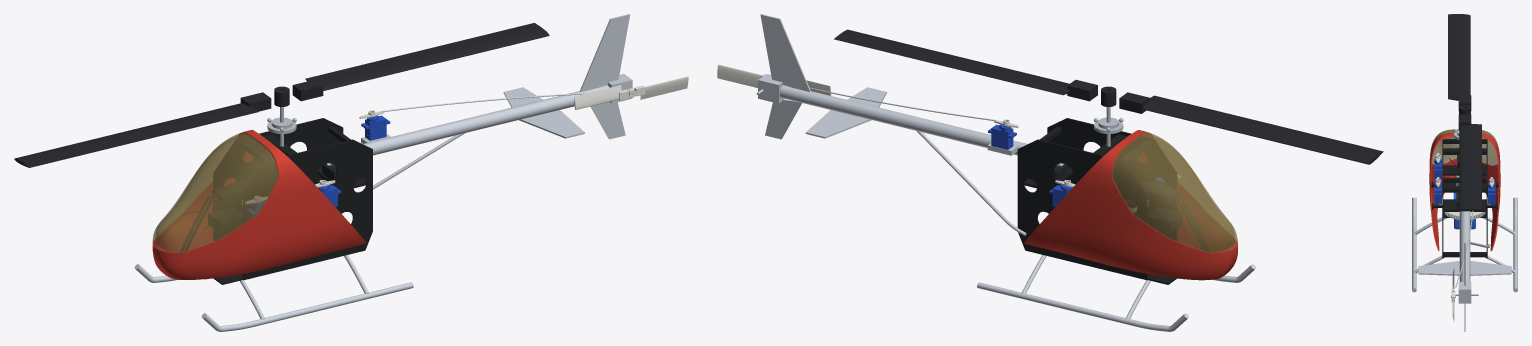
File: helicoptero.glb
3 renders of one model, left to right at view 1: azimuth 30°, elevation 25°; view 2: azimuth 150°, elevation 25°; view 3: azimuth 270°, elevation 25°, orthographic. The views are drawn at different scales.
Parts seen in each view (by area): view 1: p026, p000, p027, p016, p012, p014, p017, p033, p018, p024, p057, p022 (+3 smaller); view 2: p026, p000, p027, p016, p014, p012, p017, p030, p018, p057, p022, p020 (+3 smaller); view 3: p016, p014, p012, p000, p026, p027, p030, p033, p010, p013, p063, p065 (+9 smaller).
Part boxes in pixels (<box>): p026: <box>152,130,366,279</box>; p000: <box>213,118,372,284</box>; p027: <box>152,132,278,252</box>; p016: <box>326,74,633,166</box>; p012: <box>305,23,549,90</box>; p014: <box>14,92,271,167</box>; p017: <box>579,14,629,91</box>; p033: <box>201,282,413,331</box>; p018: <box>590,102,625,139</box>; p024: <box>574,85,628,109</box>; p057: <box>208,204,242,232</box>; p022: <box>640,76,688,99</box>; p026: <box>1023,130,1237,280</box>; p000: <box>1017,118,1176,284</box>; p027: <box>1112,132,1237,253</box>; p016: <box>756,74,1063,166</box>; p014: <box>1119,92,1383,164</box>; p012: <box>834,29,1070,95</box>; p017: <box>760,14,810,91</box>; p030: <box>977,282,1188,331</box>; p018: <box>765,99,801,139</box>; p057: <box>1148,204,1182,232</box>; p022: <box>717,64,761,87</box>; p020: <box>916,131,1026,235</box>; p016: <box>1418,211,1511,303</box>; p014: <box>1448,14,1471,110</box>; p012: <box>1459,124,1481,211</box>; p000: <box>1442,139,1487,258</box>; p026: <box>1429,133,1500,251</box>; p027: <box>1431,129,1498,165</box>; p030: <box>1513,197,1517,292</box>; p033: <box>1412,197,1416,292</box>; p010: <box>1444,212,1485,219</box>; p013: <box>1458,114,1471,129</box>; p063: <box>1488,183,1495,204</box>; p065: <box>1434,183,1441,204</box>.
Bounding box in the file's own units: 0.891 × 0.2535 × 0.163.
